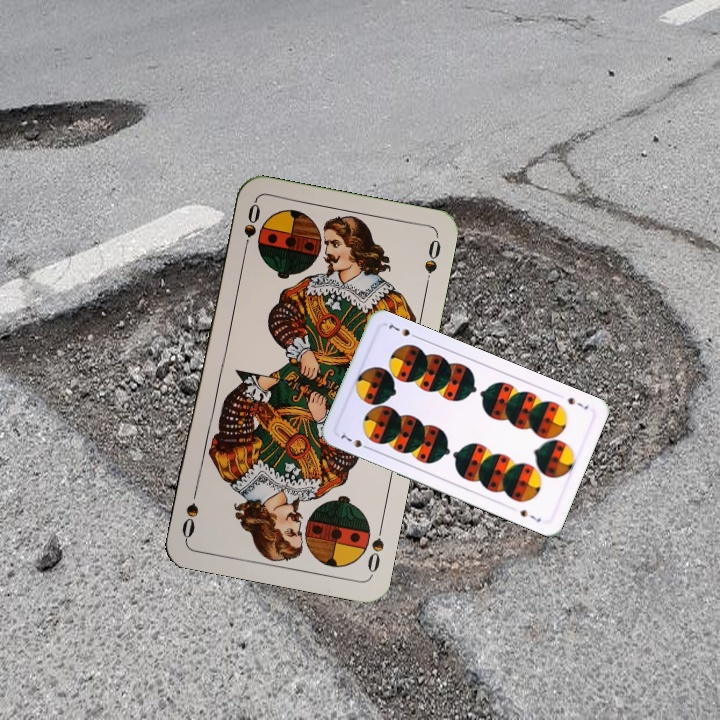S7: (337, 428, 373, 453), (564, 393, 591, 412)
SO: (239, 199, 263, 258), (363, 519, 387, 578)
